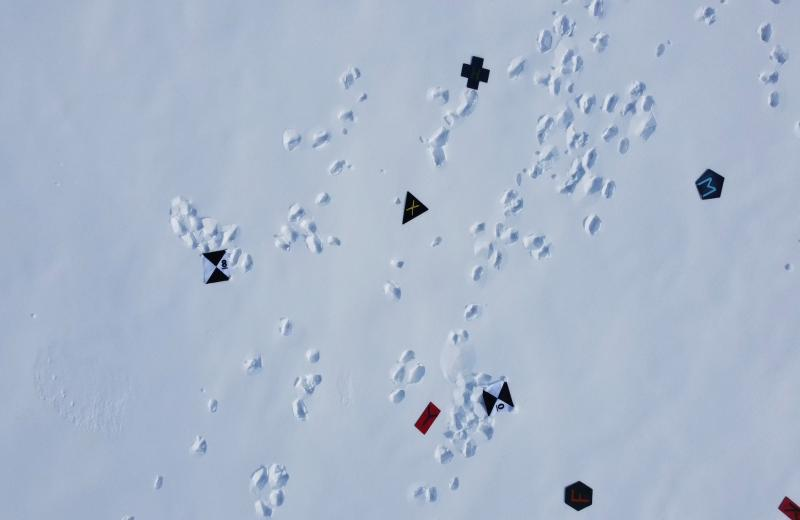Cross: (457, 47, 494, 94)
Hexagon: (560, 474, 599, 512)
Pentagon: (690, 166, 728, 207)
Rectangle: (410, 396, 446, 439), (772, 493, 800, 520)
Triangle: (396, 188, 432, 228)
